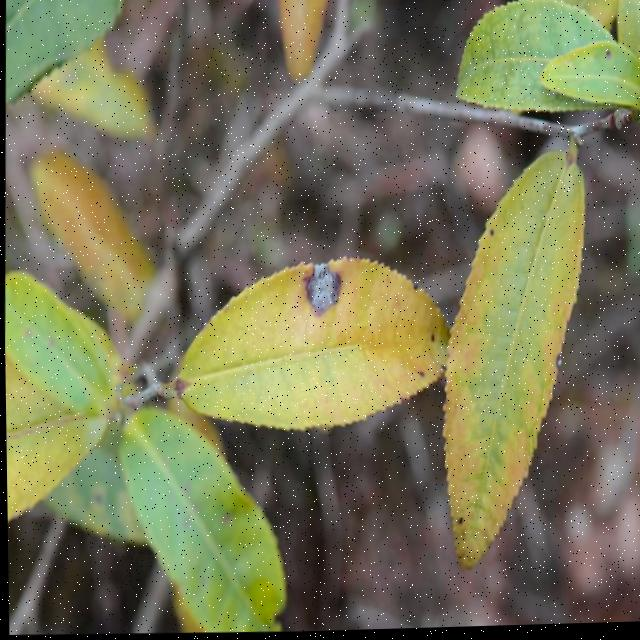Tea red scab: (305, 257, 349, 318)
